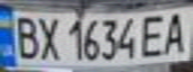1: (63, 15, 84, 61)
3: (100, 16, 121, 61)
4: (115, 15, 142, 61)
6: (81, 16, 103, 62)
A: (160, 9, 193, 55)
B: (9, 12, 42, 61)
E: (136, 11, 172, 58)
X: (33, 12, 63, 62)
